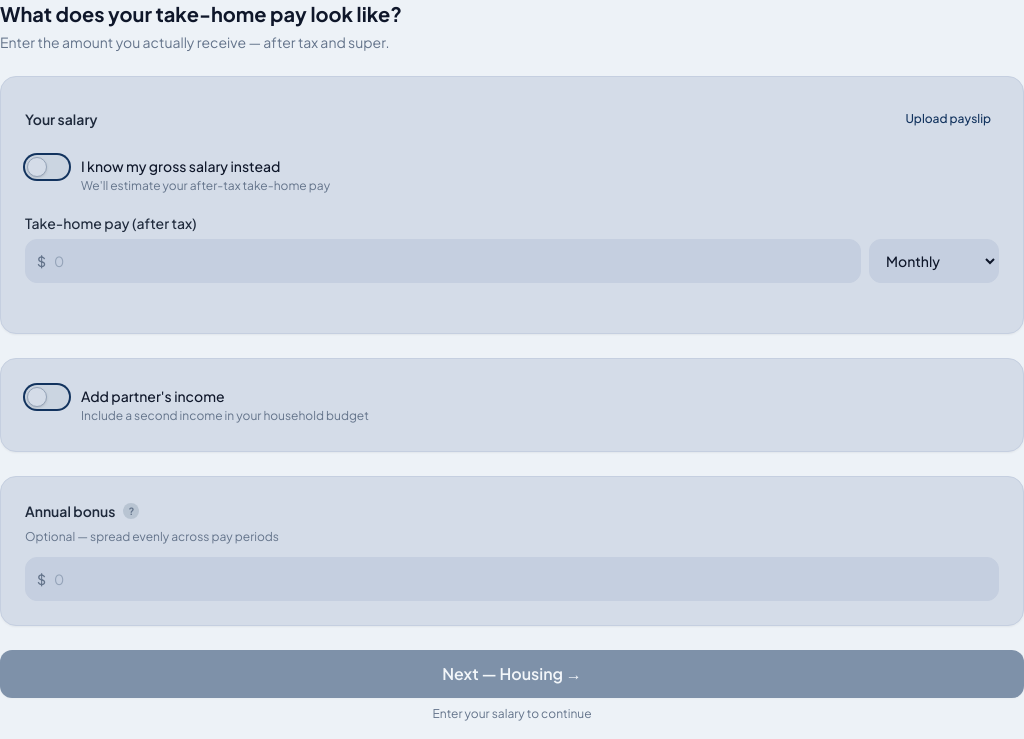
Test: StepIncome — gross toggle › turning on gross toggle shows the tax breakdown when an amount is entered
Step 1. Click the checkbox labelled "gross salary" → (178, 174), box [25,155,330,193]
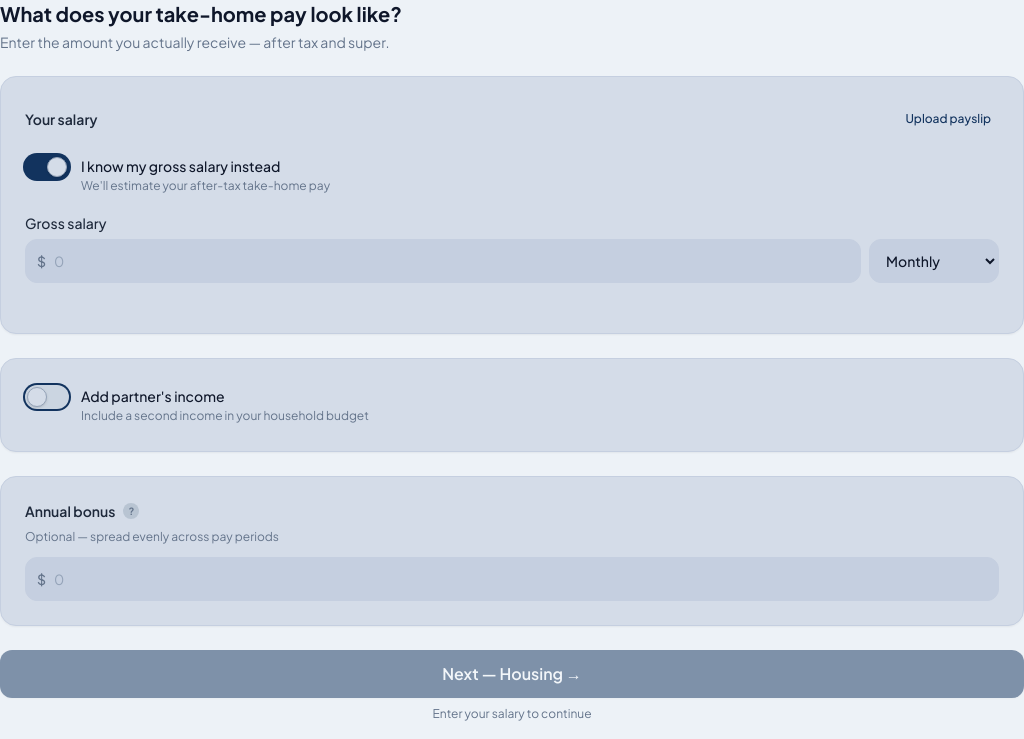
Check: the checkbox labelled "gross salary" is checked, box [25,155,330,193]
# Label changes to "Gross salary" after toggle — wait for re-render
Step 2. Type "80000" into the field labelled "Gross salary" → (443, 261), box [25,239,861,283]
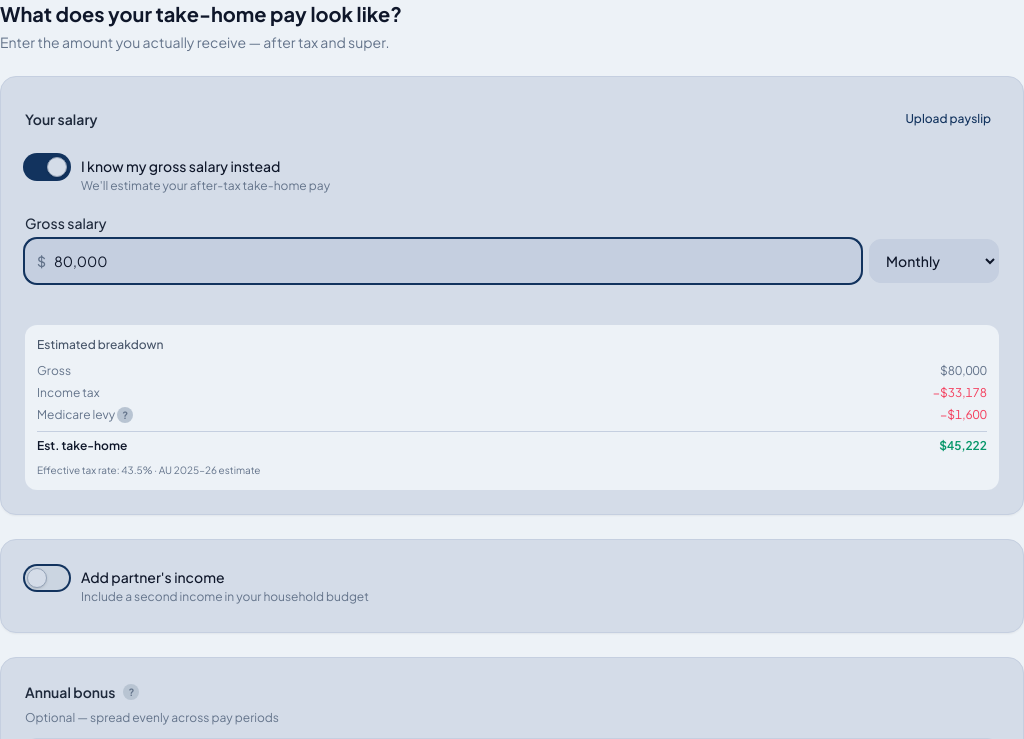
Check: the element with test id "primary-tax-breakdown" is shown, box [25,325,999,490]
Check: the element with test id "primary-tax-breakdown" shows "Est. take-home", box [37,438,127,453]
